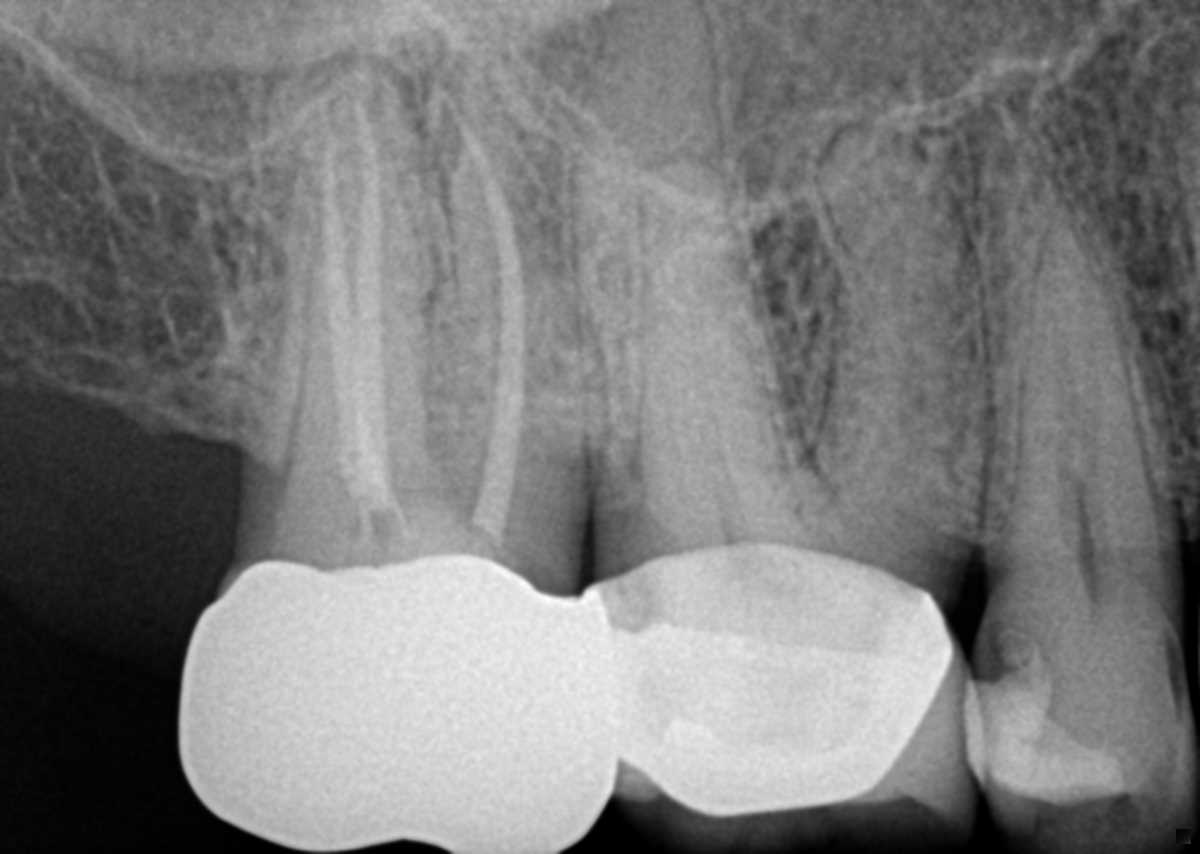Apical Lesion: (276, 20, 453, 119)
Distal Root: (266, 121, 435, 531), (631, 148, 788, 535)
Main Root: (974, 121, 1166, 555), (990, 201, 1156, 555)
Mesial Root: (763, 121, 997, 563), (409, 77, 579, 580)
Palatal Root: (563, 0, 792, 571), (235, 64, 503, 547)
Root Canal Filling: (430, 88, 524, 541), (319, 129, 397, 522), (350, 98, 391, 510)
